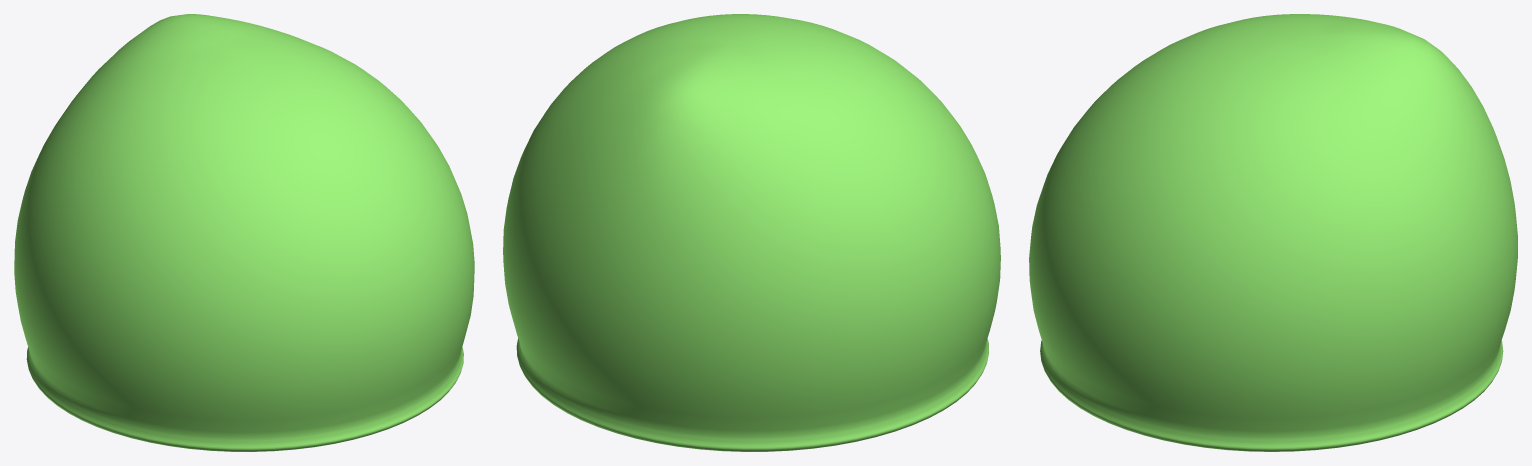
Rendered from BasicSlime1-1.fbx.
The picture shows the model from 3 angles, left to right: view 1: azimuth 30°, elevation 25°; view 2: azimuth 150°, elevation 25°; view 3: azimuth 270°, elevation 25°; orthographic projection. The views are drawn at different scales.
Parts seen in each view (by area): view 1: SlimeBody; view 2: SlimeBody; view 3: SlimeBody.
Boxes of the visible parts, box(x1,y1,x2,y2) form: SlimeBody: box(14, 14, 474, 451); SlimeBody: box(503, 14, 1000, 451); SlimeBody: box(1029, 14, 1517, 451).
Bounding box in the file's own units: 59.42 × 43.14 × 59.56.
